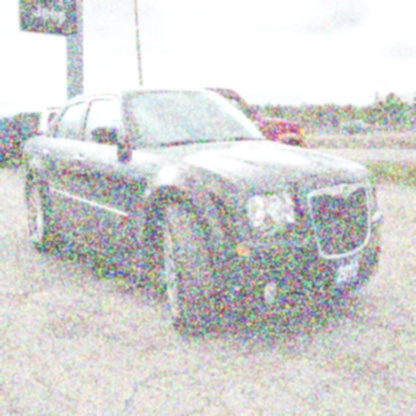Vehicle: (22, 85, 386, 339)
